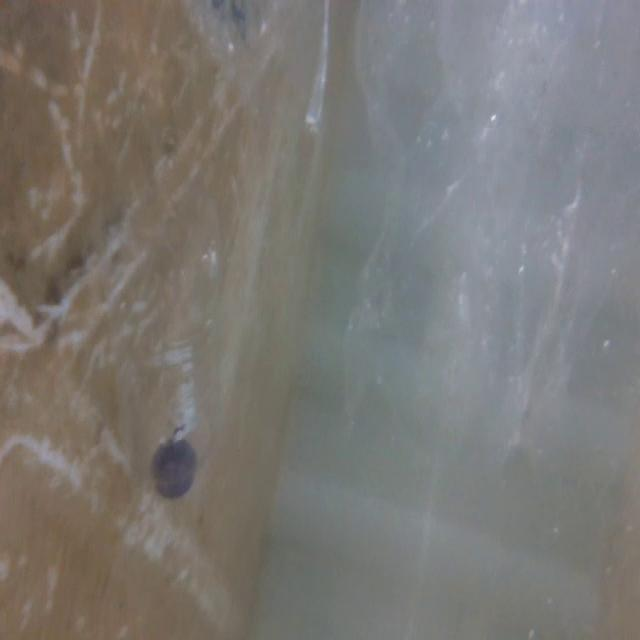plastic bags: (338, 0, 640, 490), (194, 0, 341, 128)
plastic bottle: (81, 171, 236, 518)
